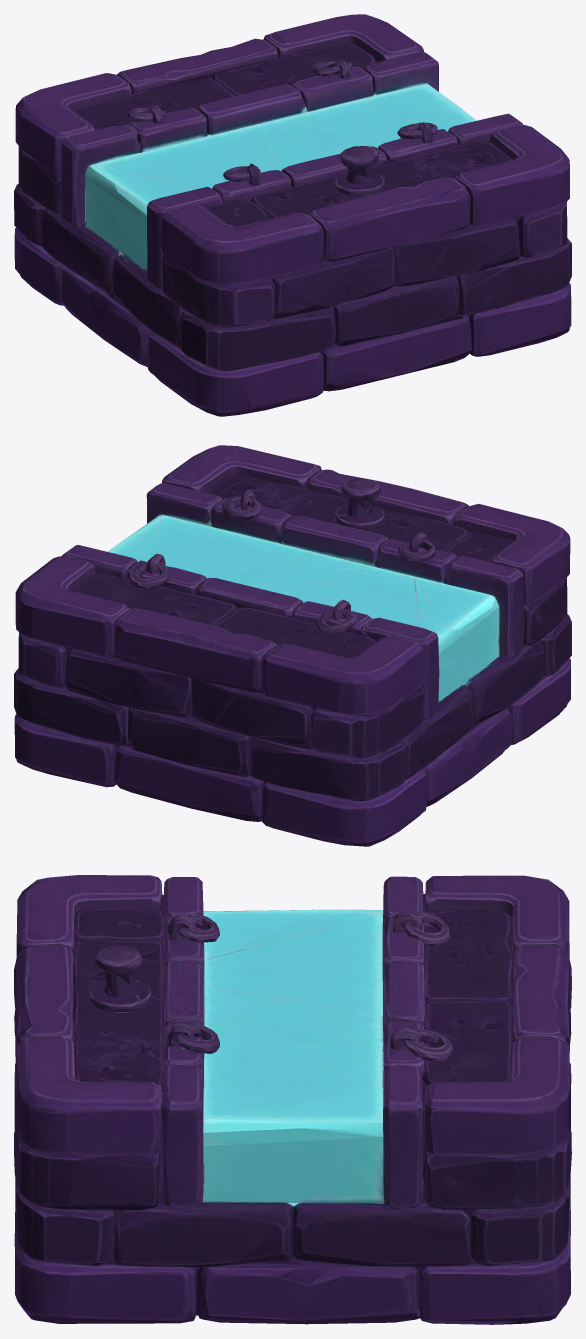
Rendered from tile-canal.glb.
The picture shows the model from 3 angles, top to bottom: view 1: azimuth 30°, elevation 25°; view 2: azimuth 150°, elevation 25°; view 3: azimuth 270°, elevation 25°; orthographic projection. The views are drawn at different scales.
Visible parts, largest first — view 1: output_unwrapped; view 2: output_unwrapped; view 3: output_unwrapped.
Part boxes in pixels (x1=…): output_unwrapped: x1=14, y1=14, x2=571, y2=416; output_unwrapped: x1=14, y1=445, x2=571, y2=846; output_unwrapped: x1=14, y1=875, x2=571, y2=1324.
Size of the model in its own units: 1.9 by 0.9717 by 1.9.
1 material, 1 textured.
